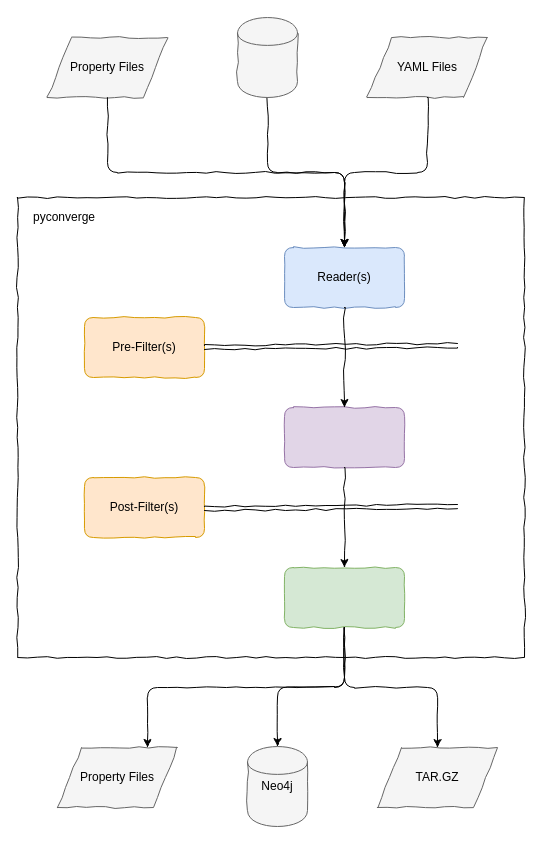
This 542x844 diagram has some shape labels left out. The shapes that lost their labels are listed below. From the top down, each one's centre as x and y in pixels, then its label:
(267,57): MySQL
(344,437): Resolver(s)
(344,597): Writer(s)
